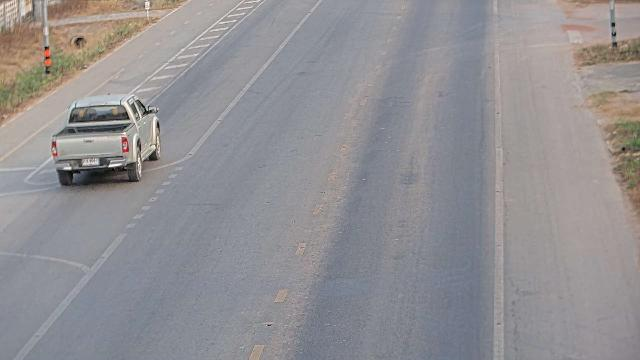pickup-truck: (50, 92, 161, 186)
